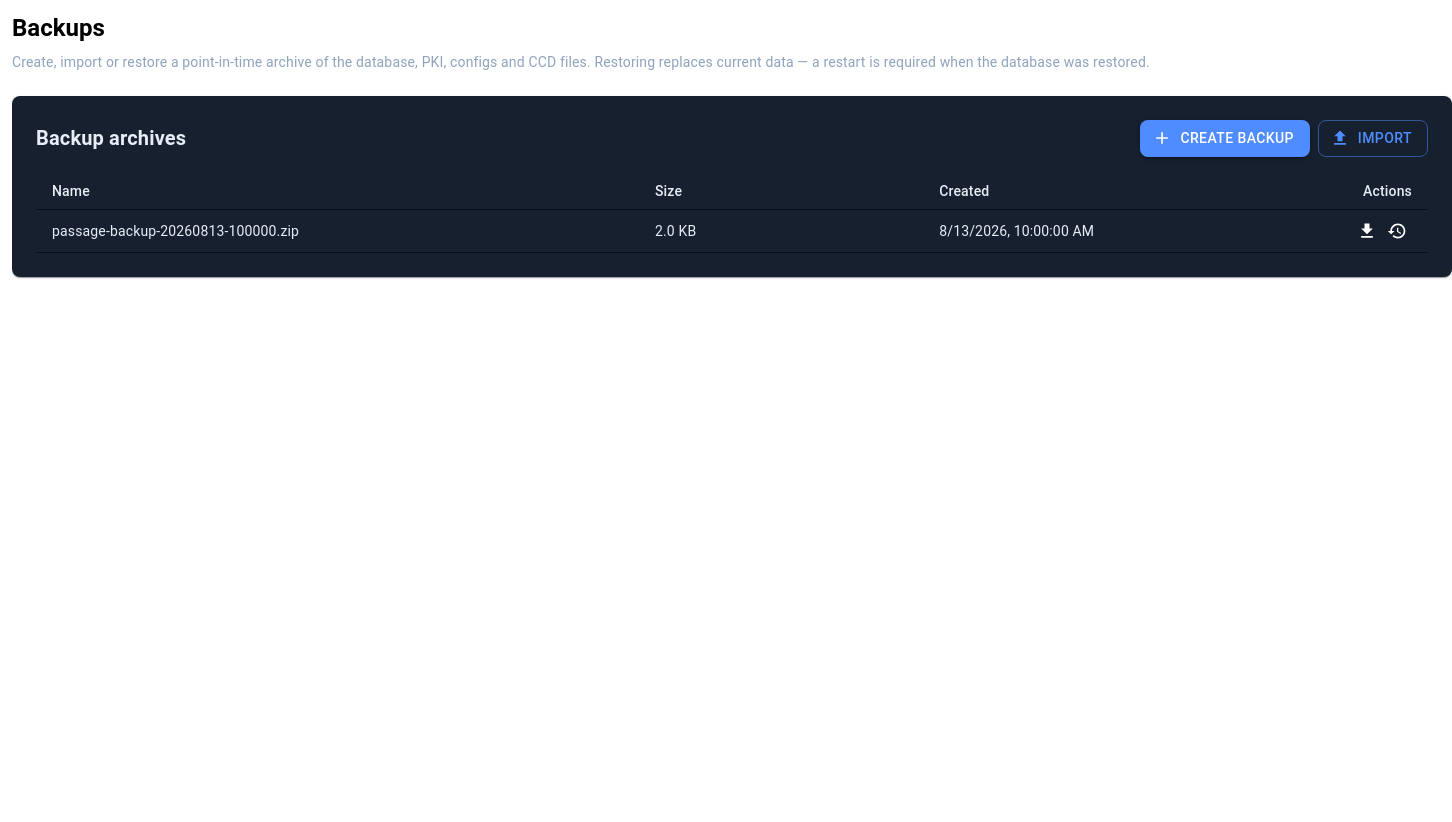
Test case: BackupsPage › creates a backup
This screenshot has width=1452, height=822.
Expected: the text "passage-backup-20260813-100000.zip" is shown, [36,209,639,252]
Click the button "Create backup" at (1225,138), box [1140,120,1310,156]
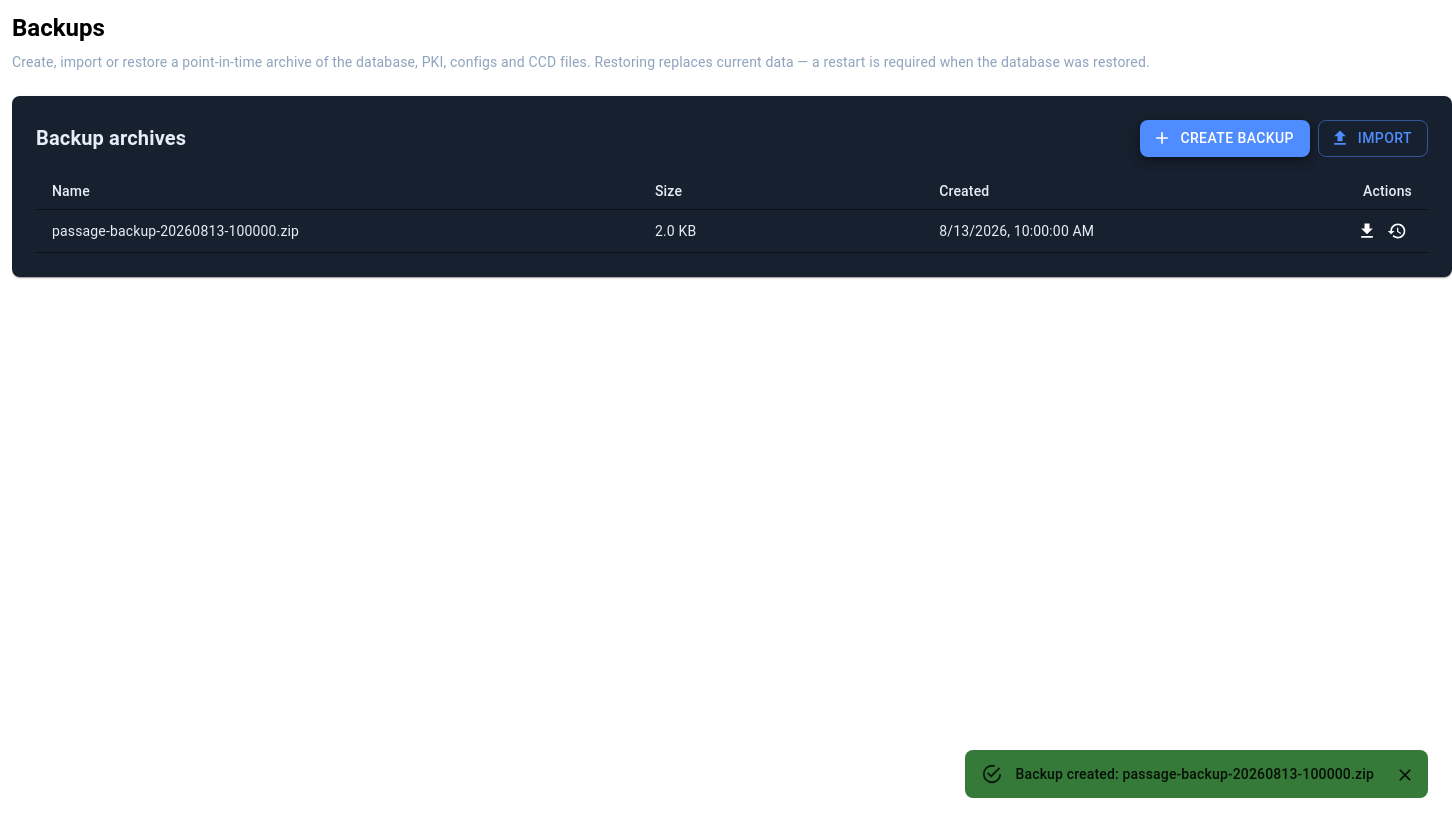
Expected: the text "Backup created: passage-backup-20260813-100000.zip" is shown, [1015,766,1374,782]
